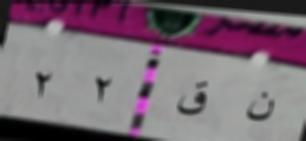2: (29, 66, 55, 101), (91, 70, 114, 109)
noon: (243, 85, 278, 125)
qaaf: (175, 78, 210, 119)
